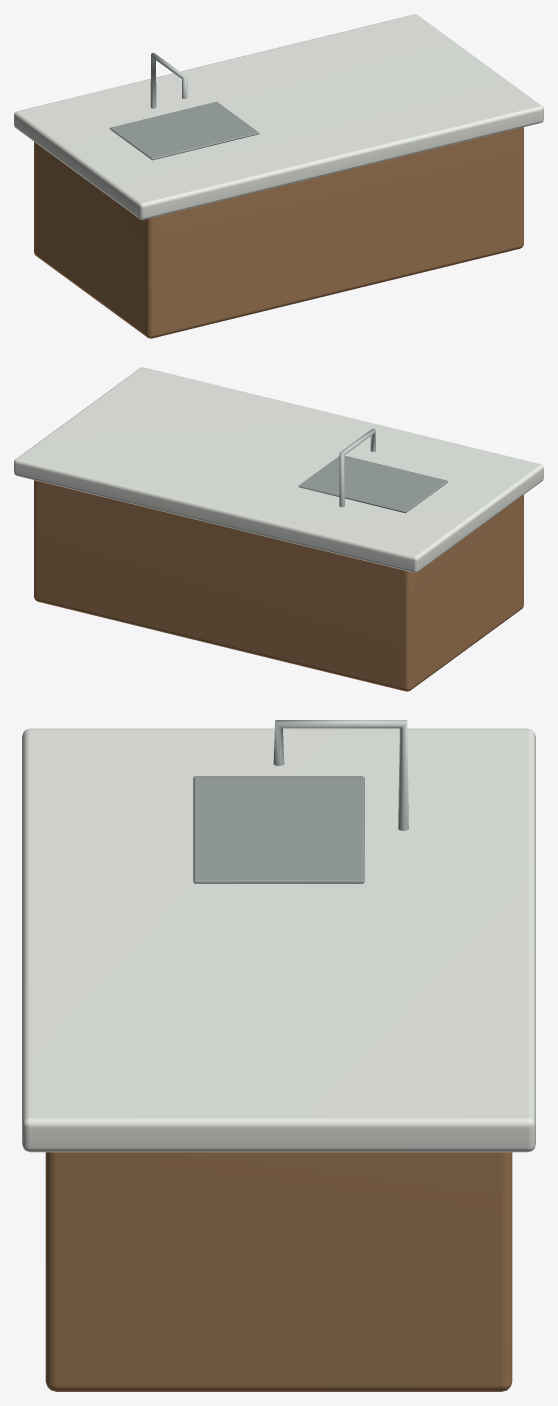
Rendered from SM_EG_StaffKitchenette_a2d9e46425.fbx.
The picture shows the model from 3 angles, top to bottom: view 1: azimuth 30°, elevation 25°; view 2: azimuth 150°, elevation 25°; view 3: azimuth 270°, elevation 25°; orthographic projection. The views are drawn at different scales.
Parts seen in each view (by area): view 1: SM_EG_StaffKitchenette_a2d9e46425; view 2: SM_EG_StaffKitchenette_a2d9e46425; view 3: SM_EG_StaffKitchenette_a2d9e46425.
Boxes of the visible parts, x1,y1,x2,y2 form: SM_EG_StaffKitchenette_a2d9e46425: (14, 14, 543, 338); SM_EG_StaffKitchenette_a2d9e46425: (14, 367, 543, 691); SM_EG_StaffKitchenette_a2d9e46425: (22, 720, 535, 1391).
Bounding box in the file's own units: 300 × 165 × 141.
